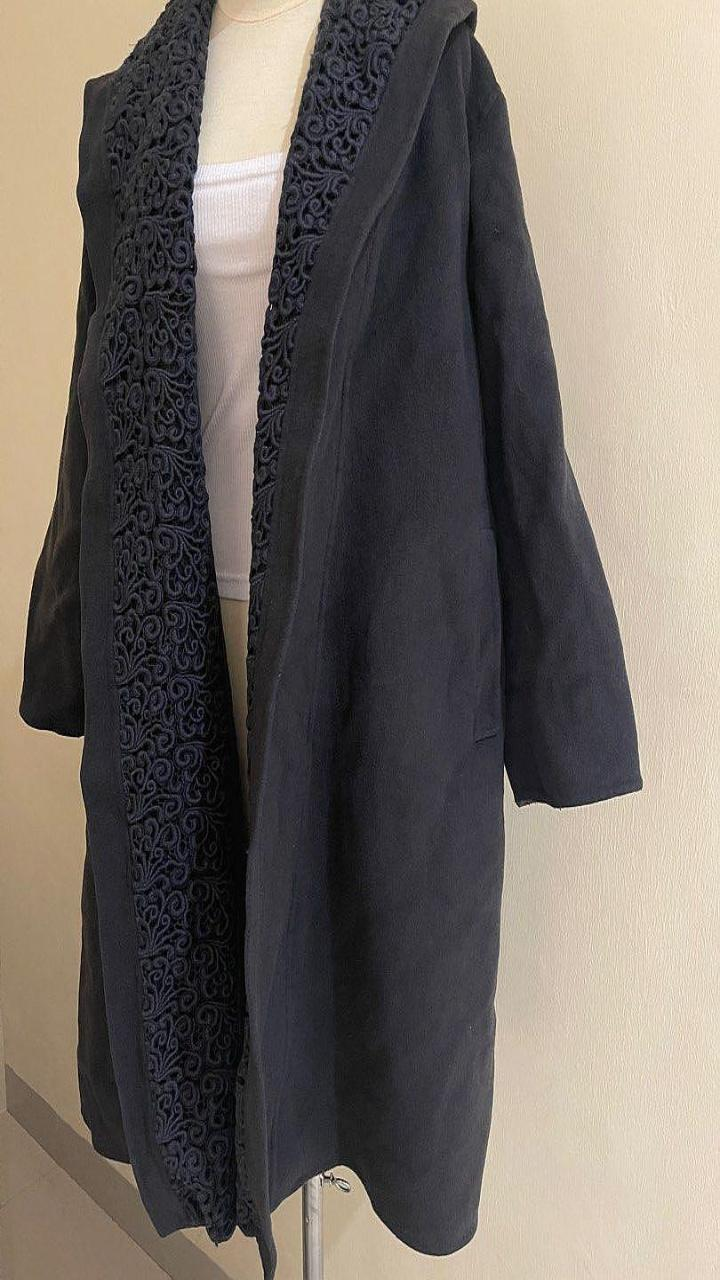Dresses: (193, 150, 285, 598)
